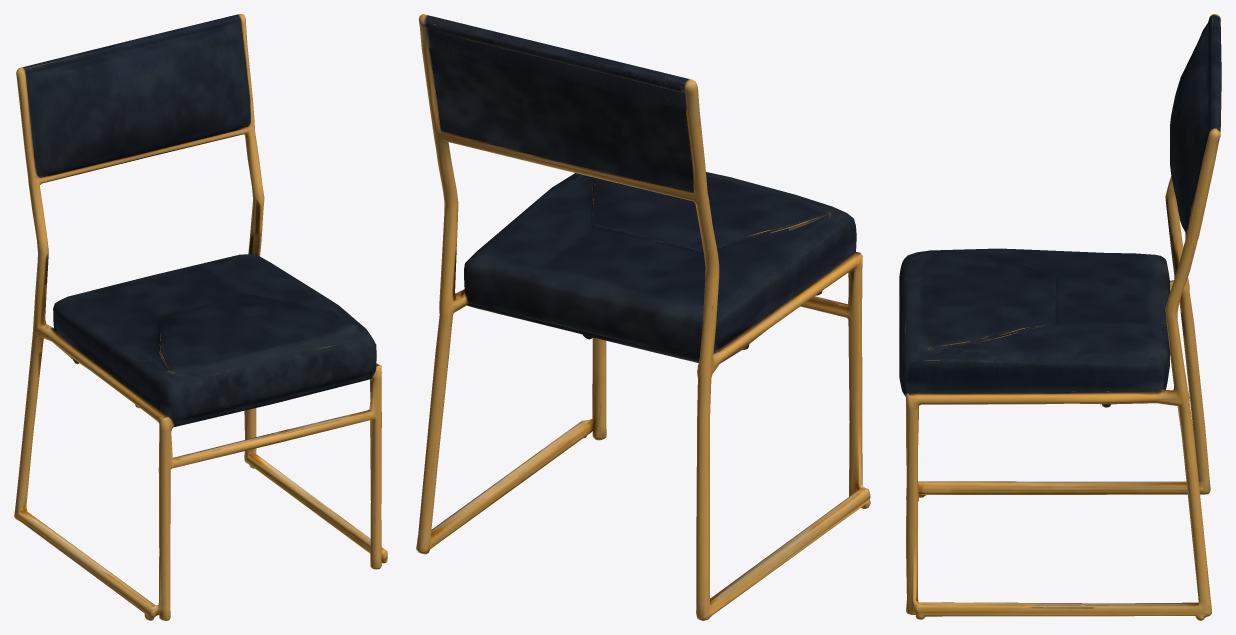
Rendered from Gold_wit_0320031238_texture.glb.
3 views of the same model, side by side, from view 1: azimuth 30°, elevation 25°; view 2: azimuth 150°, elevation 25°; view 3: azimuth 270°, elevation 25° (orthographic). The views are drawn at different scales.
Parts seen in each view (by area): view 1: Mesh_0.001; view 2: Mesh_0.001; view 3: Mesh_0.001.
Part boxes in pixels (left/top/right/bottom): Mesh_0.001: left=14, top=14, right=387, bottom=620; Mesh_0.001: left=416, top=14, right=870, bottom=620; Mesh_0.001: left=899, top=14, right=1221, bottom=620.
Bounding box in the file's own units: 0.5126 × 0.9144 × 0.5483.
1 material, 1 textured.
